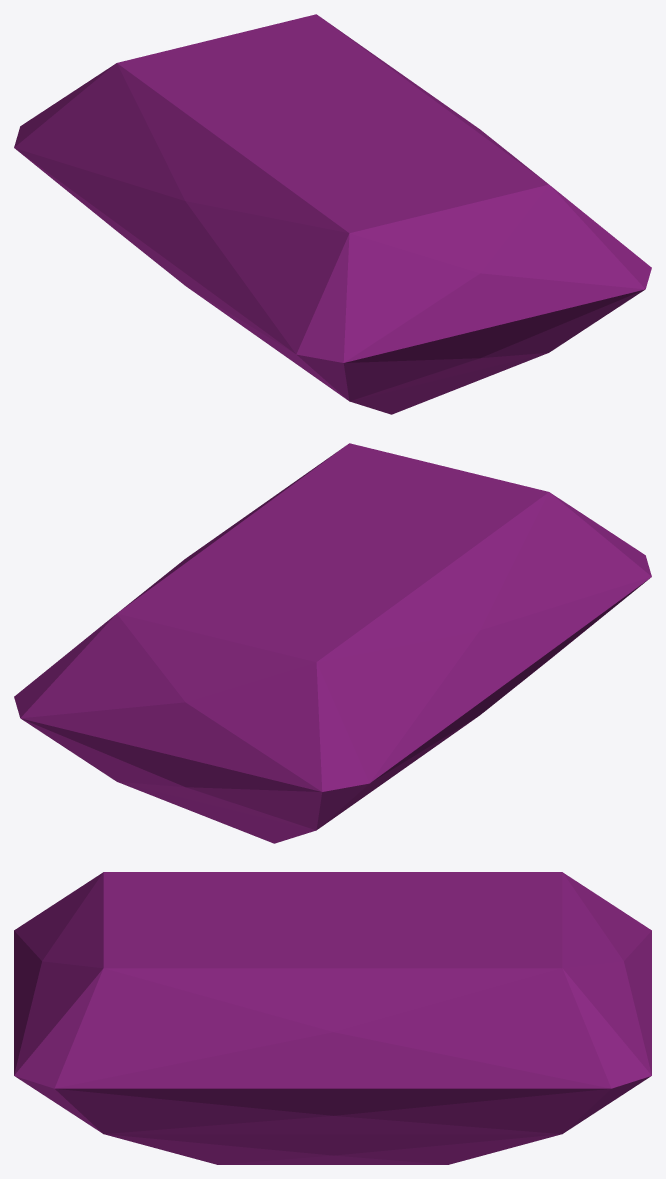
The model's file is Gem002.fbx.
3 views of the same model, one above another, from view 1: azimuth 30°, elevation 25°; view 2: azimuth 150°, elevation 25°; view 3: azimuth 270°, elevation 25° (orthographic).
Parts seen in each view (by area): view 1: Gem002; view 2: Gem002; view 3: Gem002.
Boxes of the visible parts, x1,y1,x2,y2 form: Gem002: (14, 14, 651, 414); Gem002: (14, 443, 651, 843); Gem002: (14, 872, 651, 1164).
Size of the model in its own units: 158 by 106 by 250.
